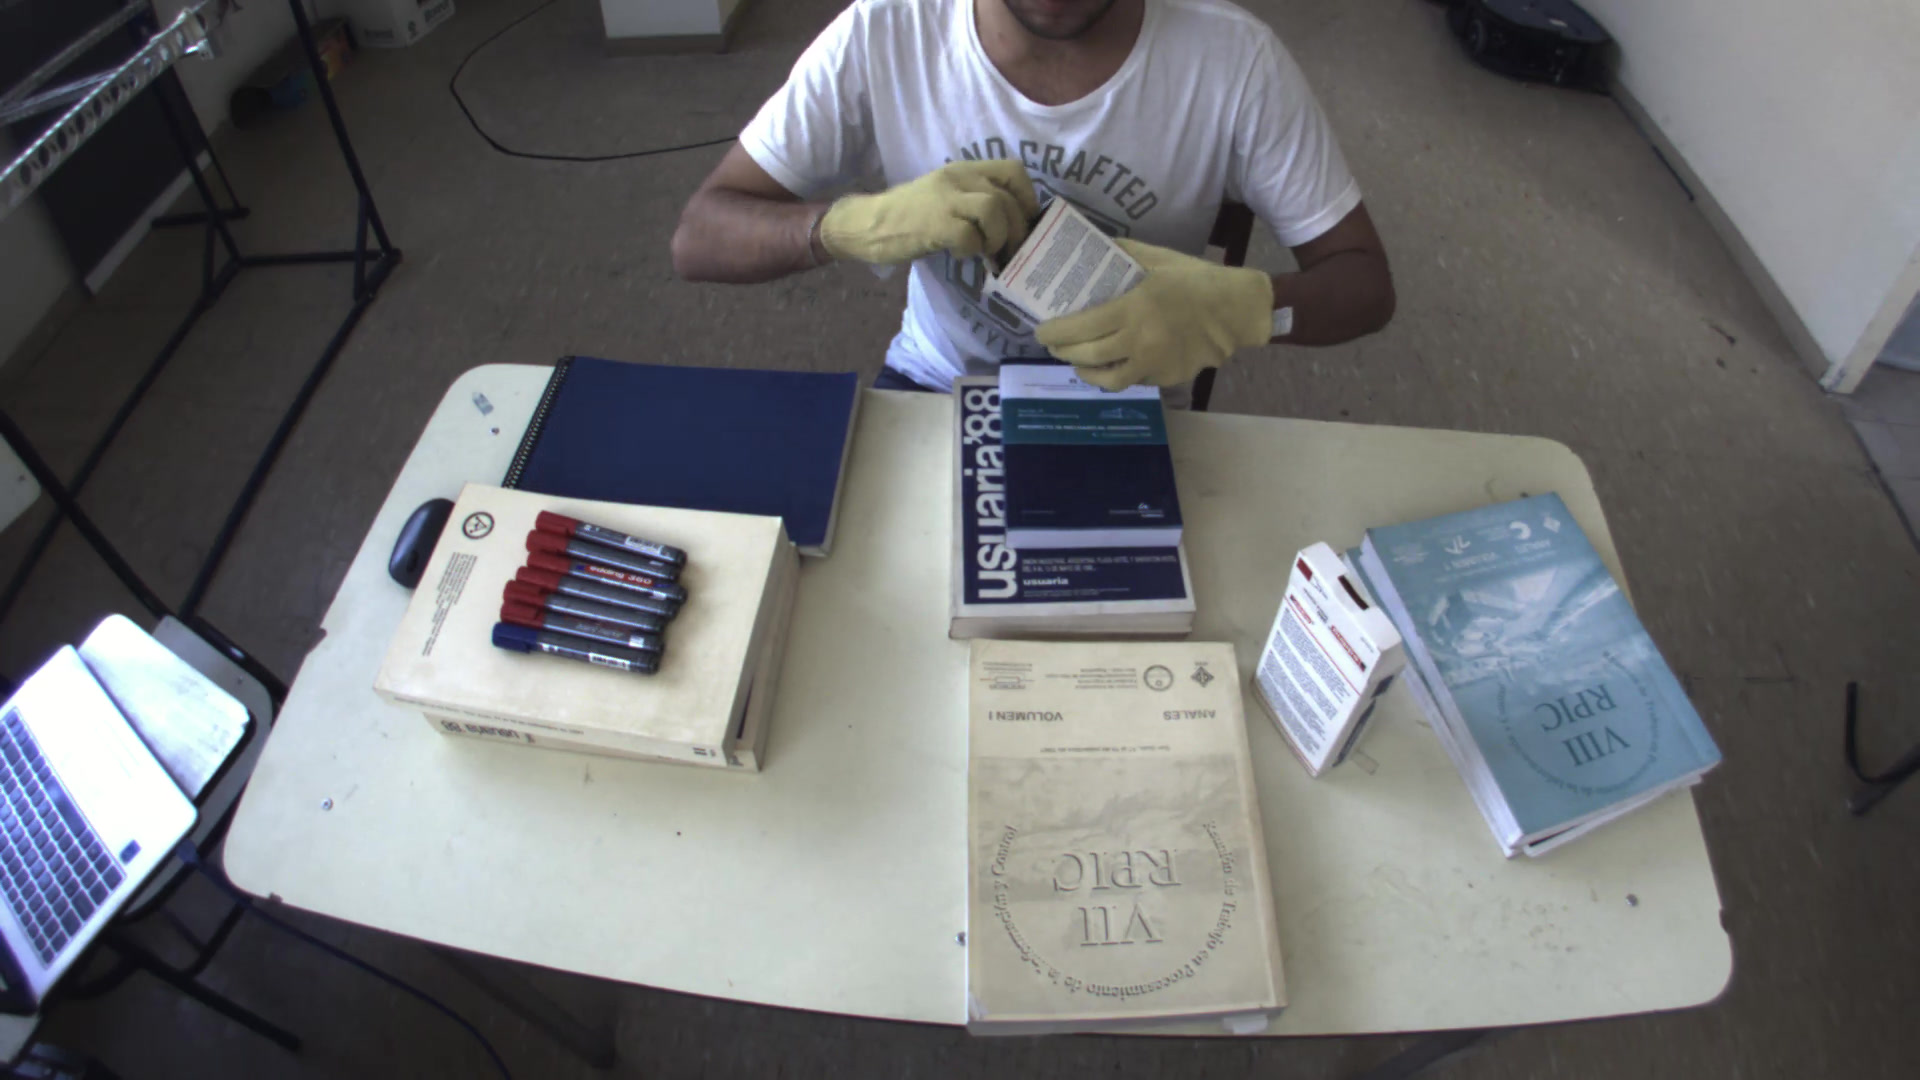hand: (1015, 225, 1299, 397), (808, 145, 1052, 266)
